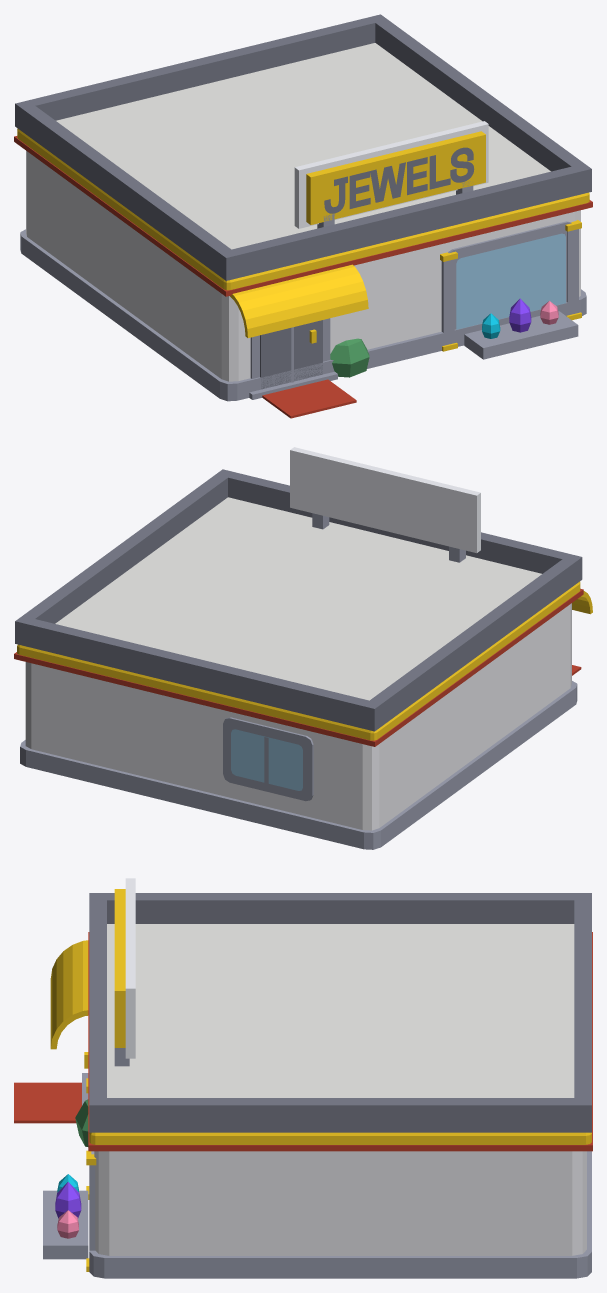
File: shop-luxury-1x1-t1-tone-a.glb
3 renders of one model, top to bottom at view 1: azimuth 30°, elevation 25°; view 2: azimuth 150°, elevation 25°; view 3: azimuth 270°, elevation 25°, orthographic. The views are drawn at different scales.
Visible parts, largest first — view 1: shop-luxury-1x1-t1-tone-a; view 2: shop-luxury-1x1-t1-tone-a; view 3: shop-luxury-1x1-t1-tone-a.
Boxes of the visible parts, left/top/right/bottom form: shop-luxury-1x1-t1-tone-a: left=14, top=14, right=592, bottom=418; shop-luxury-1x1-t1-tone-a: left=14, top=447, right=592, bottom=849; shop-luxury-1x1-t1-tone-a: left=14, top=878, right=592, bottom=1278.
Bounding box in the file's own units: 1 × 0.524 × 1.15.
1 material, 1 textured.
